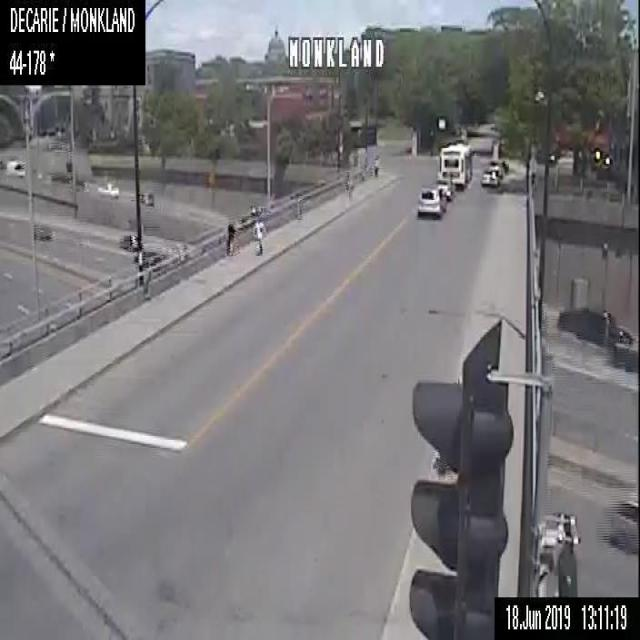bus: (436, 142, 471, 188)
pedestrian: (252, 213, 264, 256), (224, 221, 237, 256), (346, 175, 353, 202), (373, 155, 380, 176)
vehicle: (558, 306, 618, 342), (603, 499, 639, 553), (417, 183, 446, 219), (480, 164, 503, 188), (4, 157, 24, 176), (34, 220, 52, 241), (119, 232, 137, 251), (98, 180, 121, 193), (140, 189, 155, 208), (143, 246, 160, 258)
